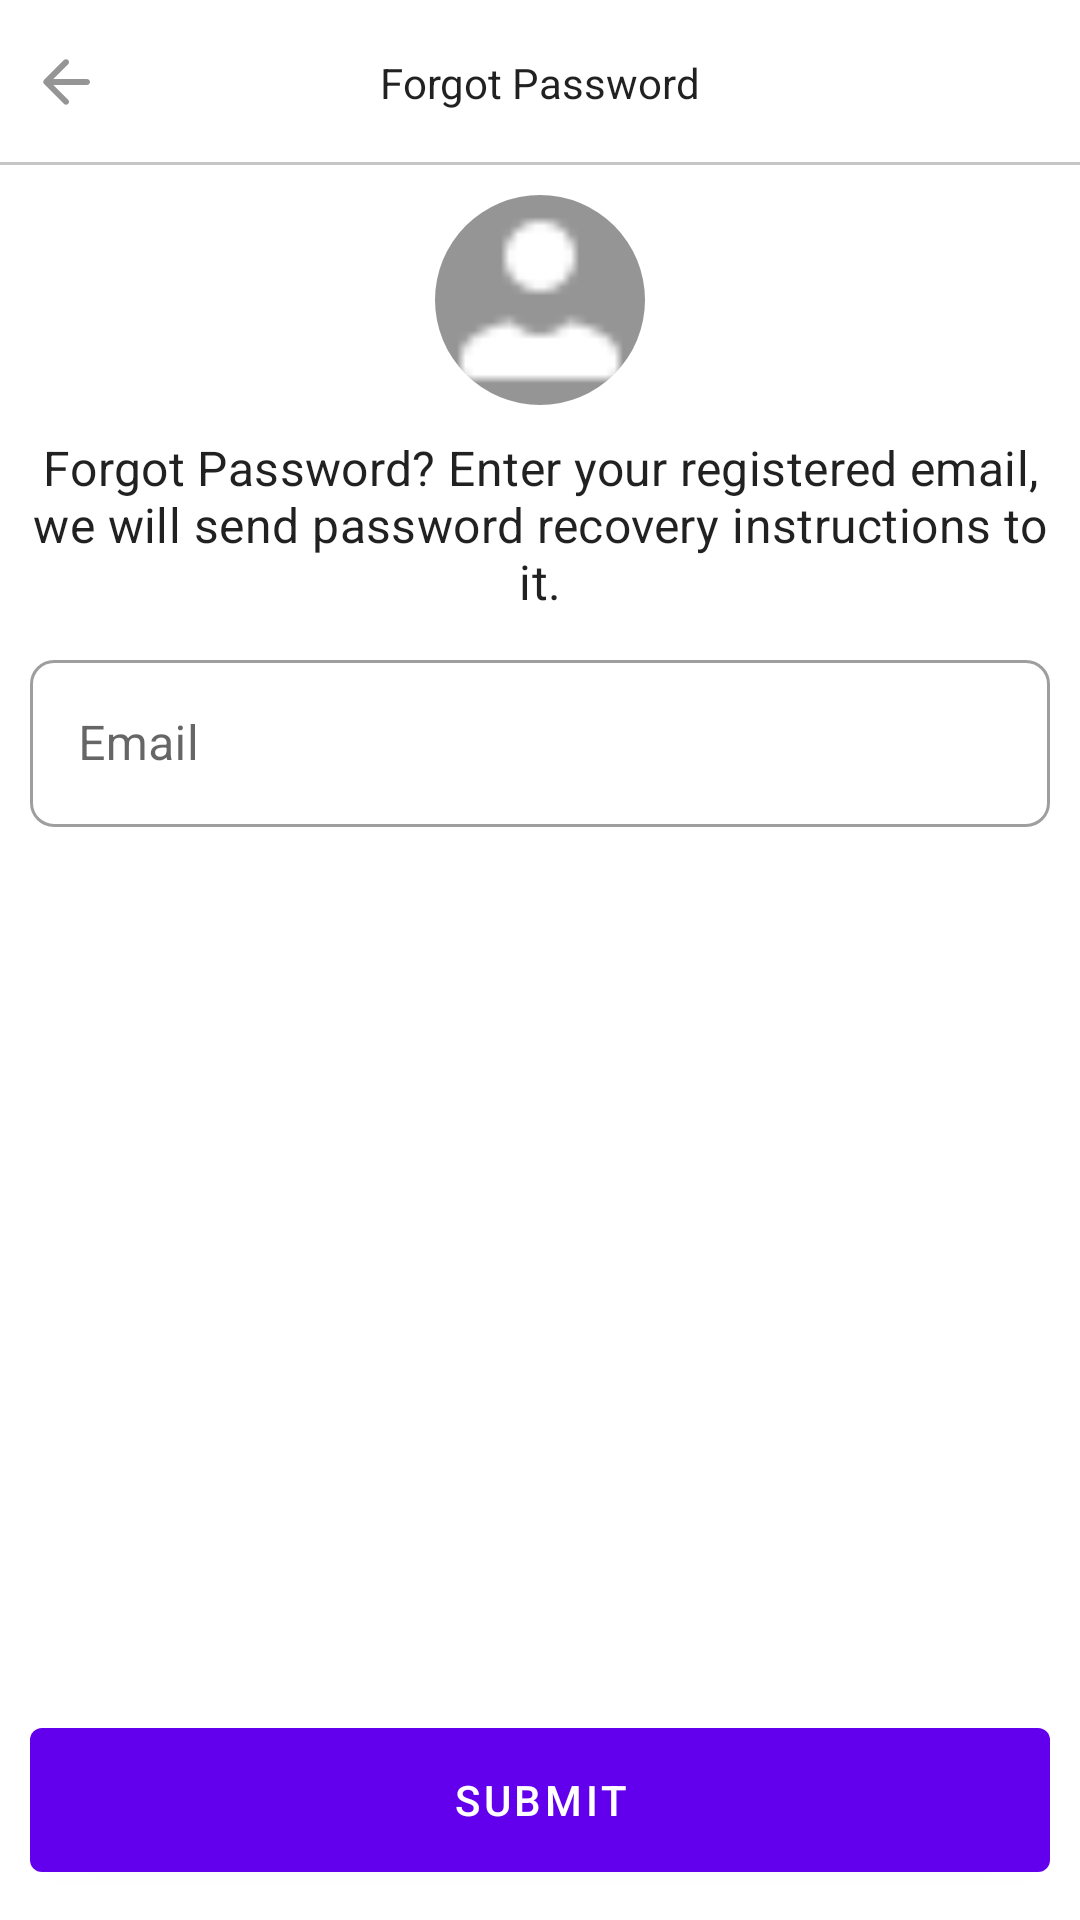

Icons on this 1080px×1920px Android screen, each with its box as [left=x1, top=y1, right=x2, bottom=y2]:
back: [left=43, top=59, right=90, bottom=105]
person: [left=435, top=195, right=645, bottom=405]
